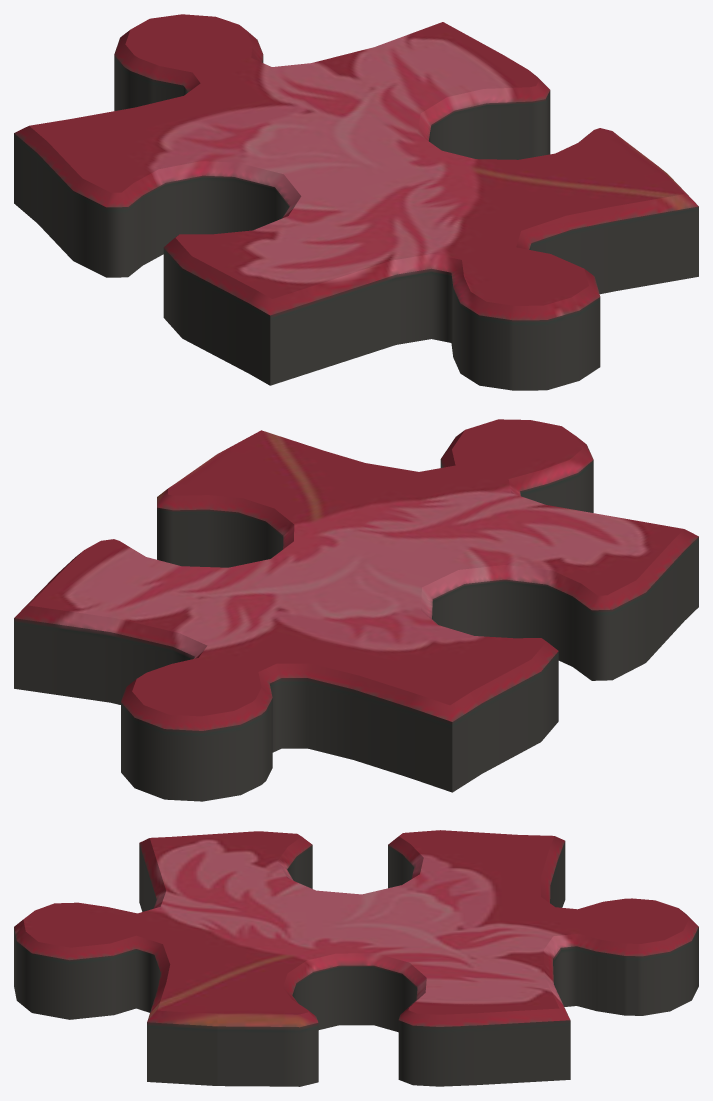
File: M_Puzzle_Piece_Floor.fbx
The picture shows the model from 3 angles, top to bottom: view 1: azimuth 30°, elevation 25°; view 2: azimuth 150°, elevation 25°; view 3: azimuth 270°, elevation 25°; orthographic projection. The views are drawn at different scales.
Visible parts, largest first — view 1: M_Puzzle_Piece_Floor:M_Puzzle_Piece_Floor; view 2: M_Puzzle_Piece_Floor:M_Puzzle_Piece_Floor; view 3: M_Puzzle_Piece_Floor:M_Puzzle_Piece_Floor.
Part boxes in pixels (bbox=[...]): M_Puzzle_Piece_Floor:M_Puzzle_Piece_Floor: bbox=[14, 14, 698, 390]; M_Puzzle_Piece_Floor:M_Puzzle_Piece_Floor: bbox=[14, 419, 698, 801]; M_Puzzle_Piece_Floor:M_Puzzle_Piece_Floor: bbox=[14, 830, 698, 1086].
Size of the model in its own units: 2.47 by 0.4076 by 3.72.
1 material, 1 textured.
